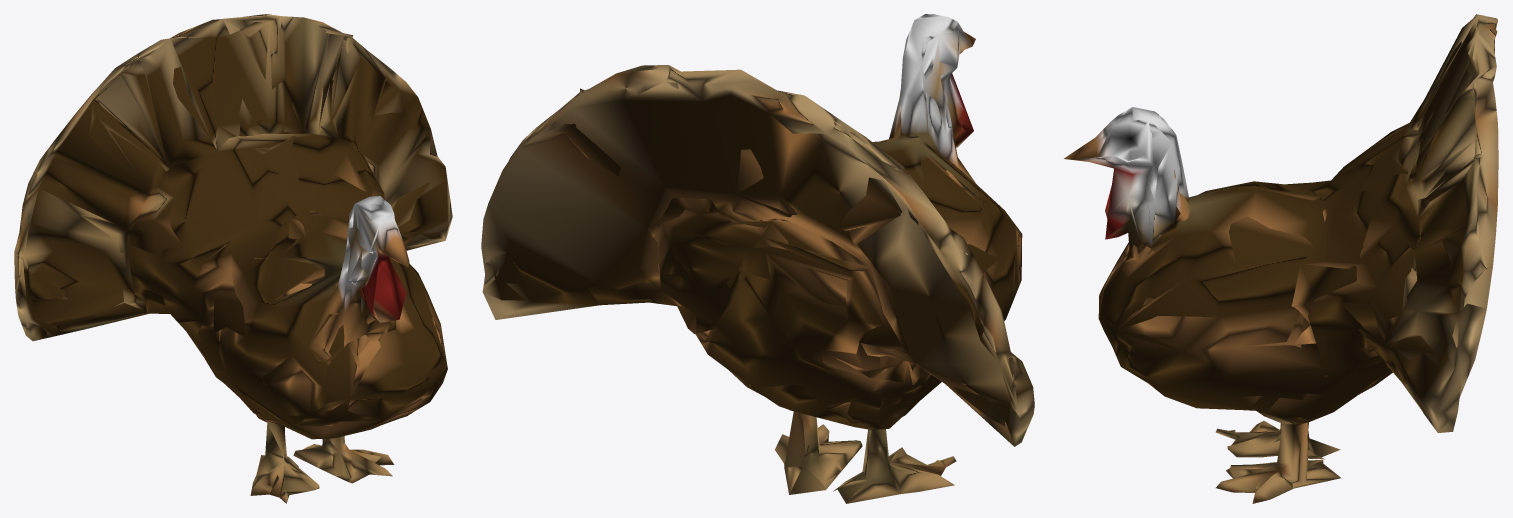
The model's file is gen3d-turkey-lod0.glb.
The picture shows the model from 3 angles, left to right: view 1: azimuth 30°, elevation 25°; view 2: azimuth 150°, elevation 25°; view 3: azimuth 270°, elevation 25°; orthographic projection. The views are drawn at different scales.
Parts seen in each view (by area): view 1: part_0; view 2: part_0; view 3: part_0.
Boxes of the visible parts, x1,y1,x2,y2 form: part_0: (14, 14, 452, 503); part_0: (481, 14, 1034, 503); part_0: (1064, 14, 1498, 503).
Size of the model in its own units: 1.14 by 0.9912 by 0.9084.
